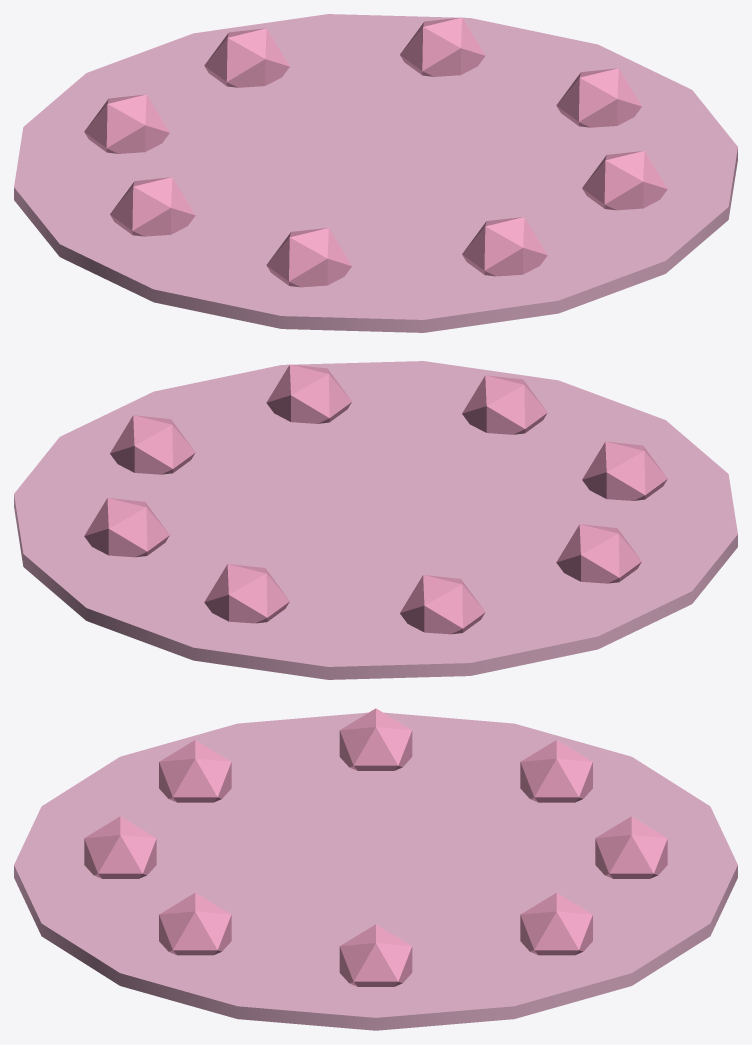
The model's file is rug.glb.
3 views of the same model, one above another, from view 1: azimuth 30°, elevation 25°; view 2: azimuth 150°, elevation 25°; view 3: azimuth 270°, elevation 25° (orthographic).
Bounding box in the file's own units: 2.04 × 0.2042 × 2.04.
